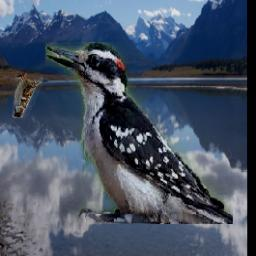Sparrow: (14, 72, 43, 118)
Woodpecker: (45, 43, 233, 225)
